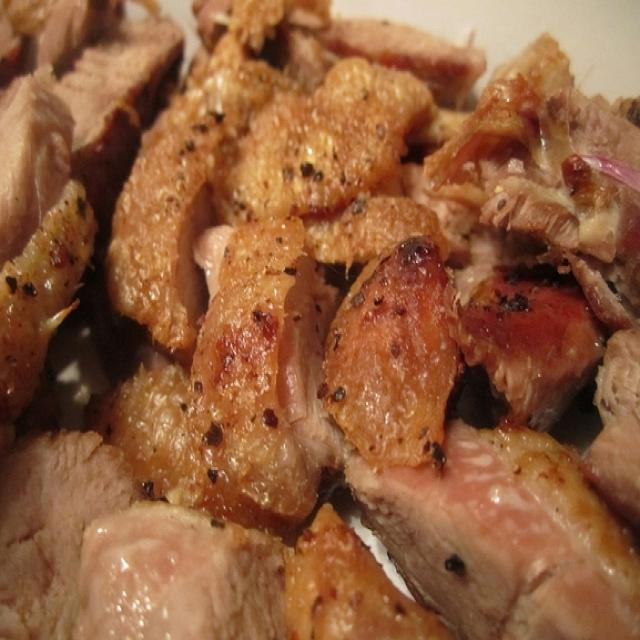烧串烤肉: (21, 18, 616, 621)
